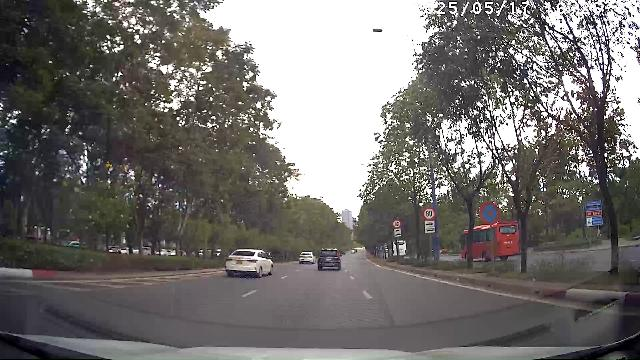127-toc-do-toi-da-80: (423, 207, 436, 220)
